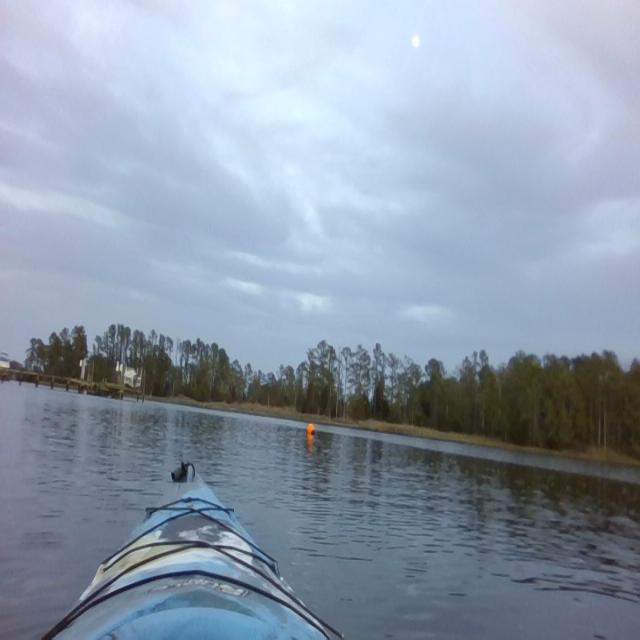Buoy: (307, 421, 317, 438)
